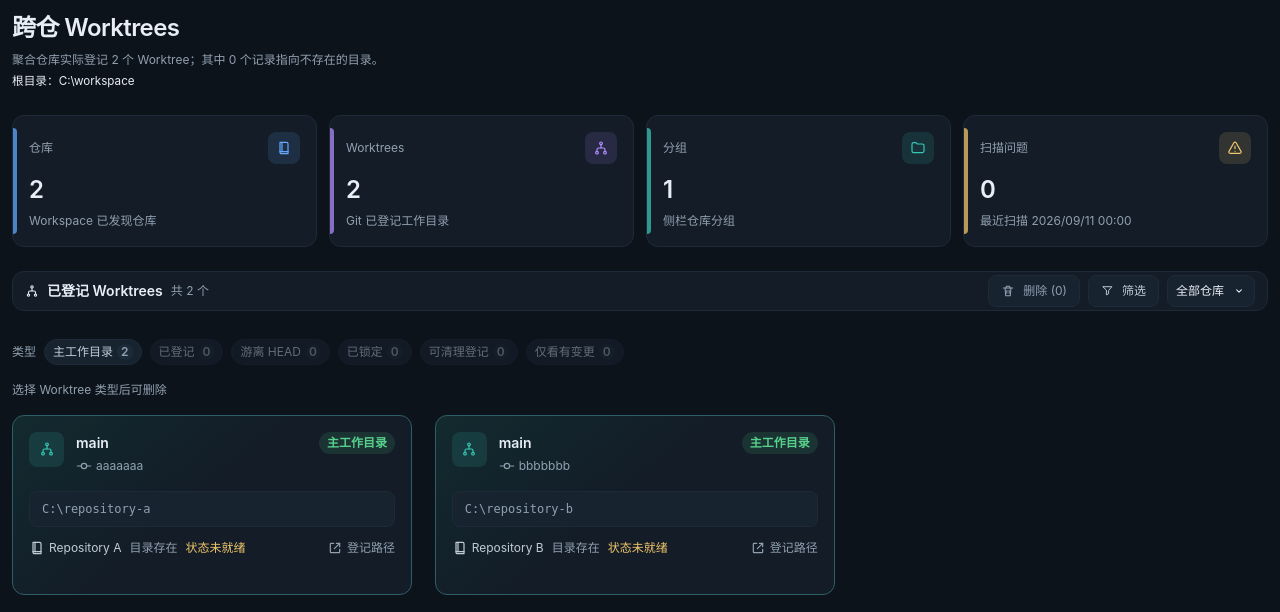
Test: Workspace overview interactions › clears a repository filter when topology refresh removes its last Worktree
Click the button with aria-label "按仓库筛选 Worktree" at (1211, 291), box [1167,275,1255,307]
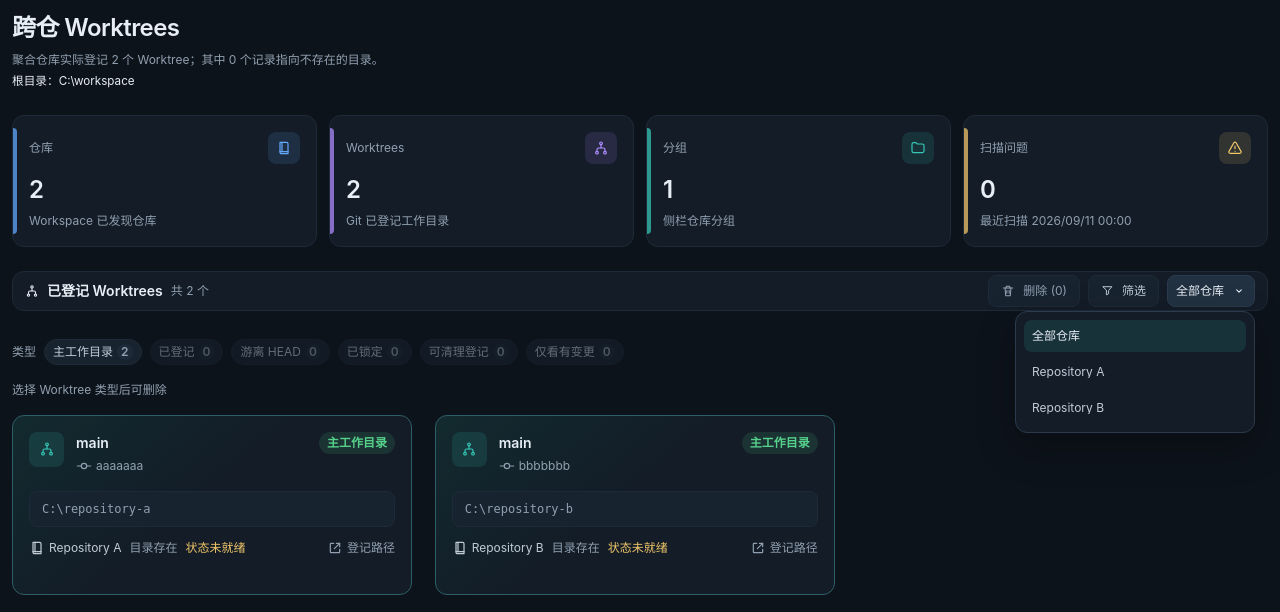
Click the menu item "Repository B" at (1135, 408), box [1024,392,1246,424]
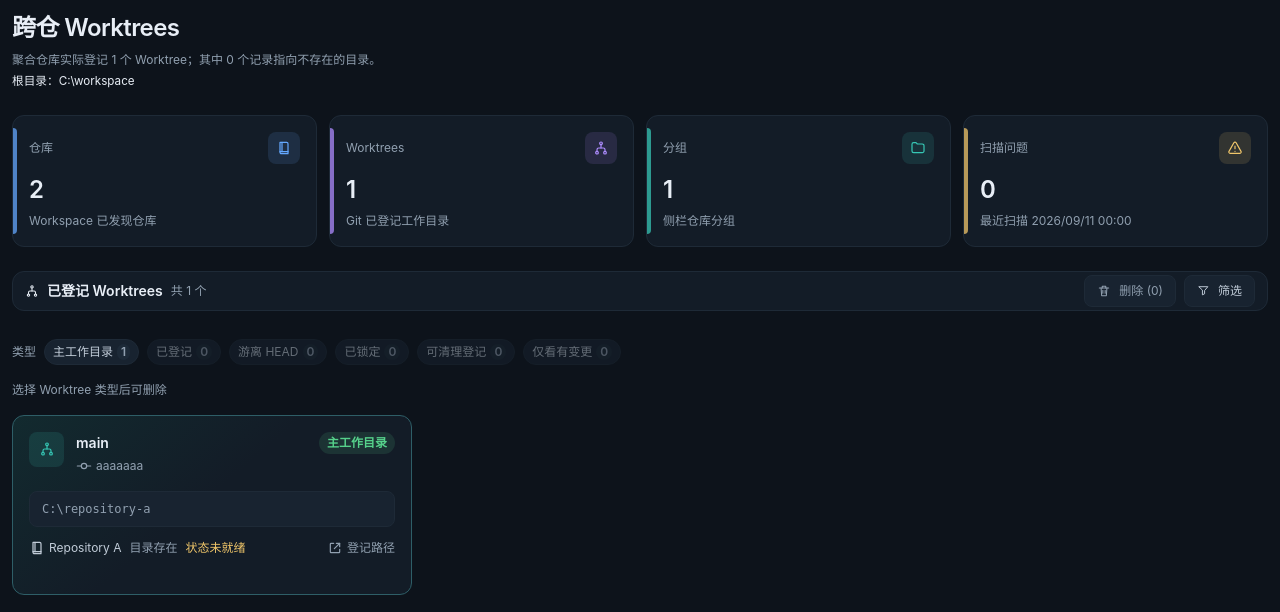
Check: the number of buttons with class "worktree-summary-card" is 1, box [12,415,412,595]
Check: the button with class "worktree-filter-chip" shows "1", box [44,339,139,365]
